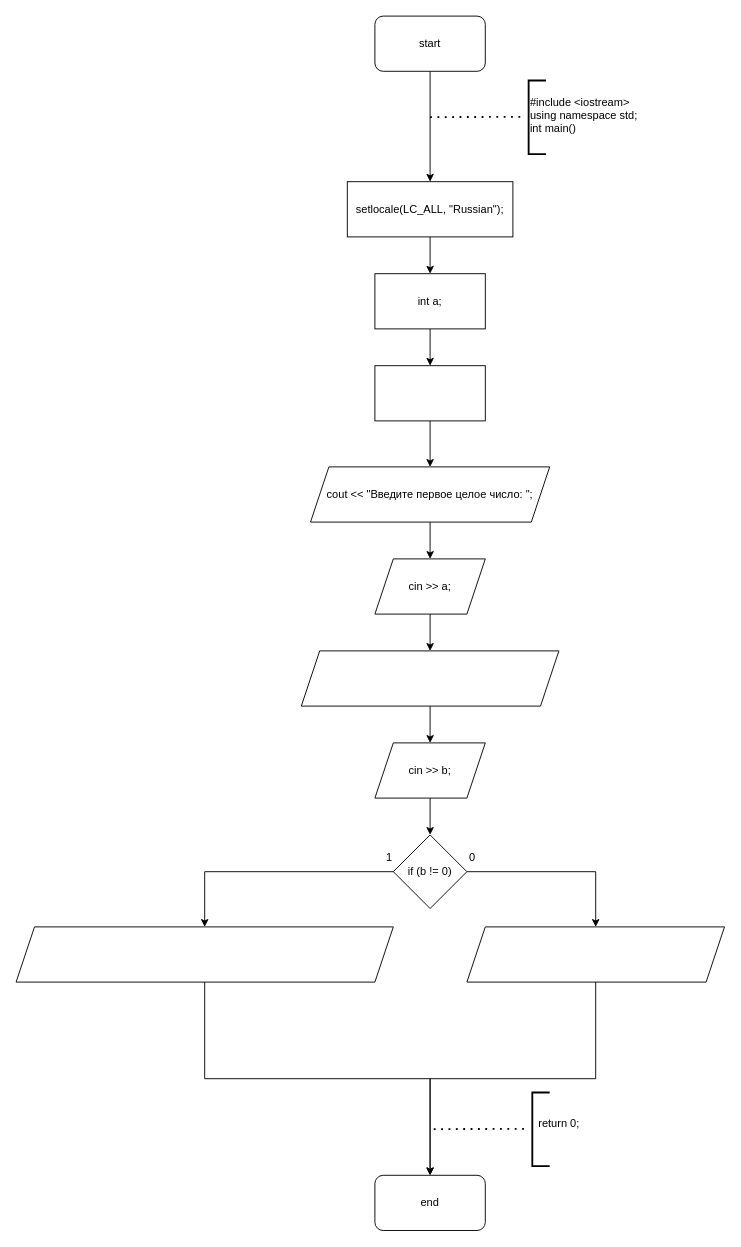
Some shapes in this 741 by 1247 pixel diagram are drawn without their labels. Each missing label, with the box of its shape:
cout << "Введите второе целое число: ";: (300, 650, 559, 706)
cout << "На ноль делить нельзя" << endl;: (466, 926, 724, 982)
cout << "Результат деления целых чисел: " << delenie(a, b) << endl;: (15, 926, 393, 982)
int b;: (374, 365, 485, 421)
